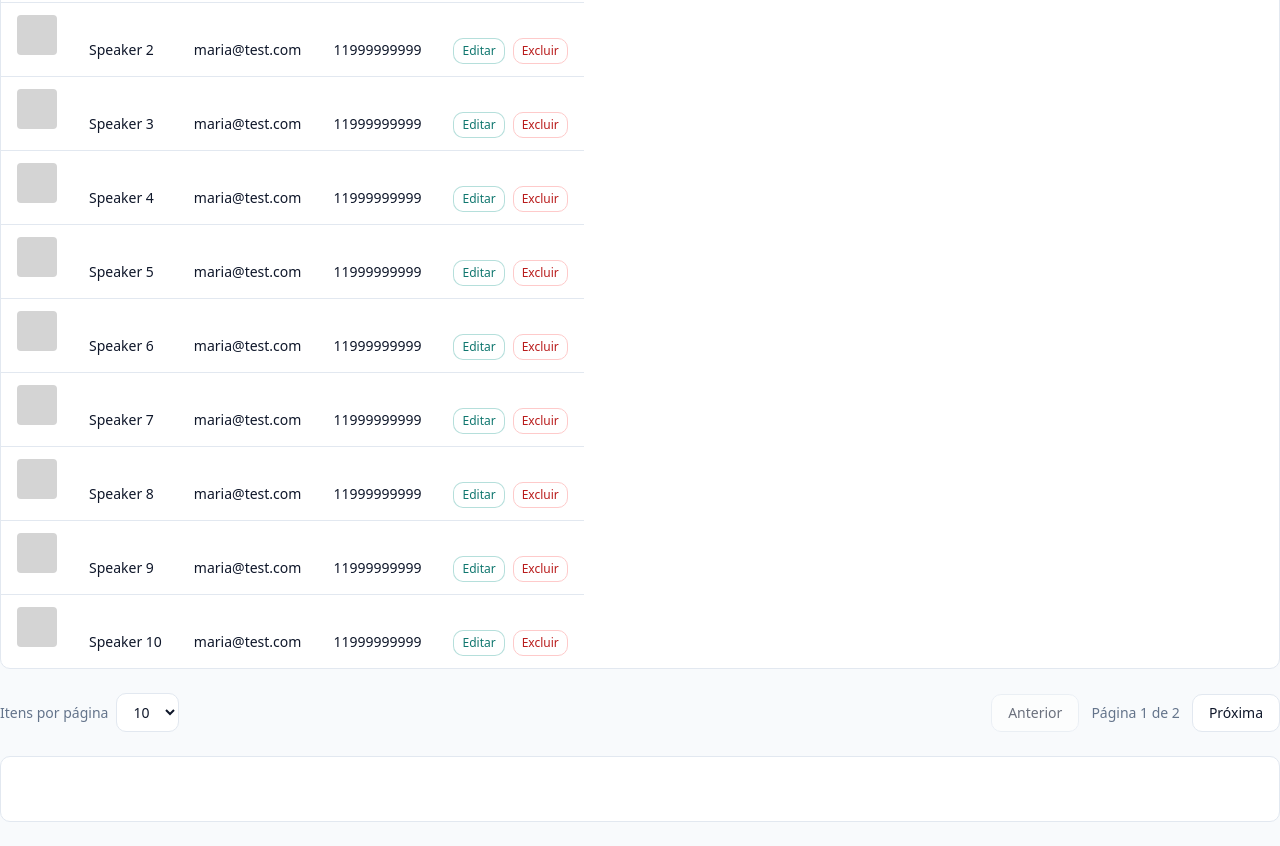
Test: PalestrantesPage › paginates list when many items exist
This screenshot has width=1280, height=846.
(page scrolled)
Expected: the text "Speaker 11" is not shown
What coordinates should you click on to do the following:
click the button "Próxima"
I would click on:
 (1236, 712)
Its box is [1192,694,1279,732].
(page scrolled)
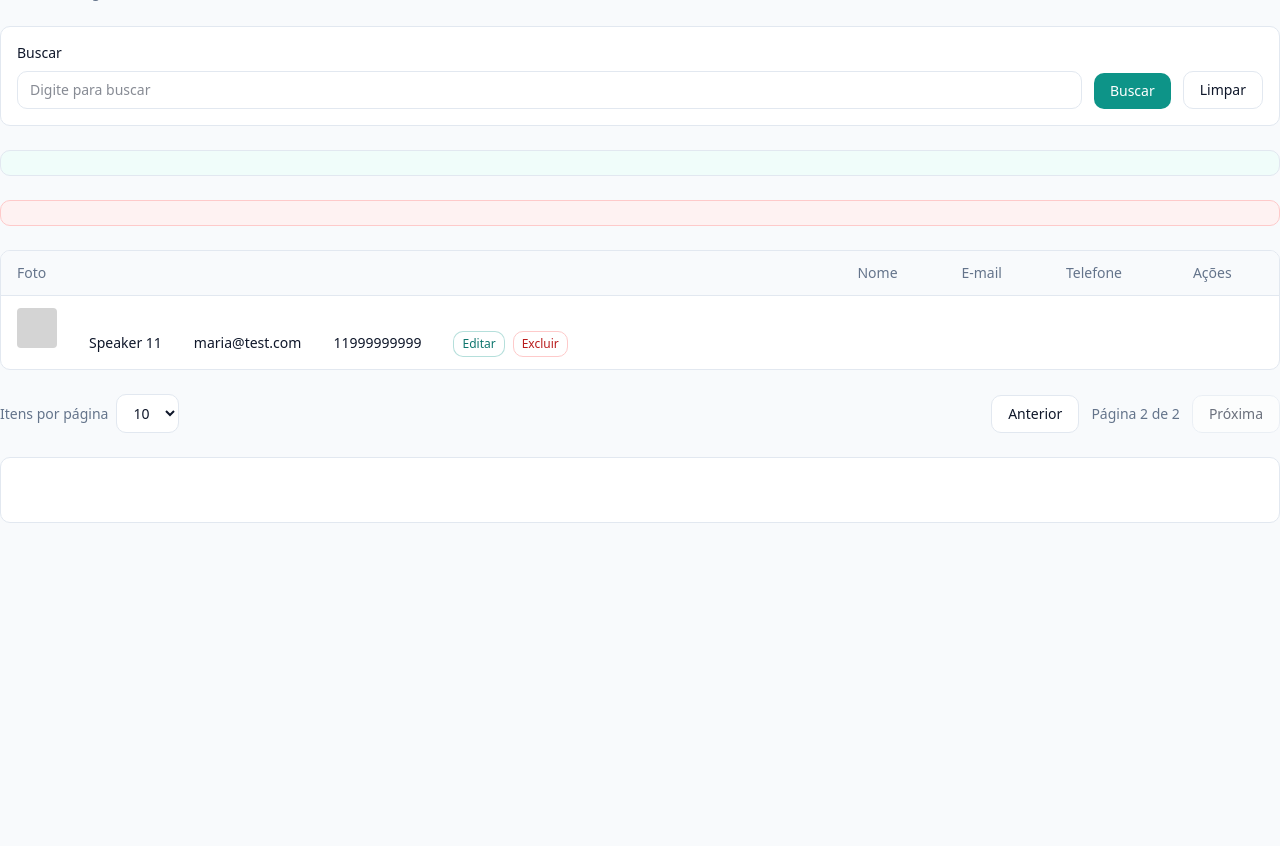
Result: the text "Página 2 de 2" is shown at [1091,404,1180,424]
Result: the text "Speaker 11" is shown at [73,296,178,369]
